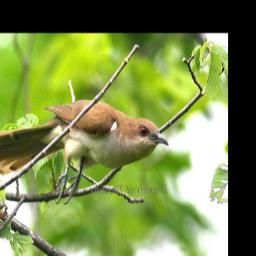Cuckoo: (0, 99, 169, 204)
